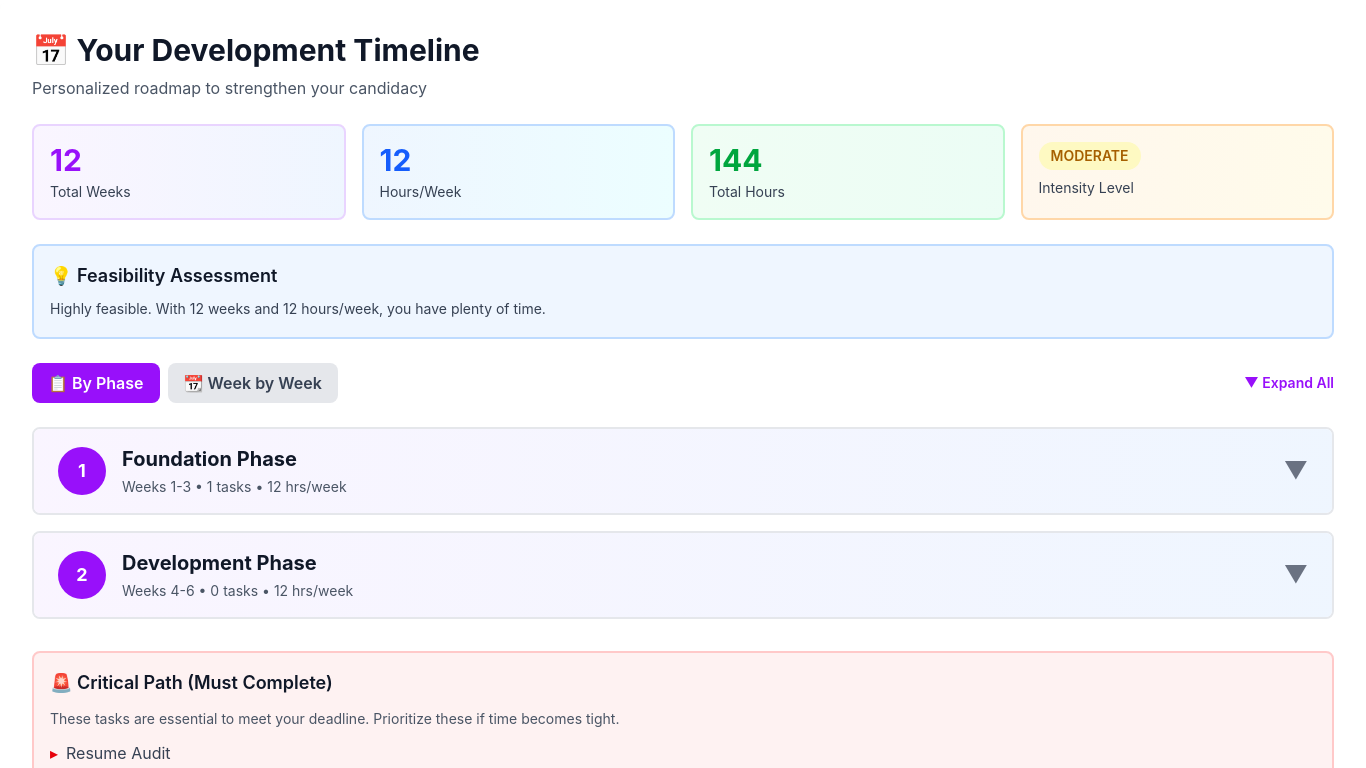
TimelineSection › Weekly Breakdown Display › should display key deliverable
Click the button "📆 Week by Week" at {"x": 253, "y": 383}, box [168, 363, 338, 403]
(page scrolled)
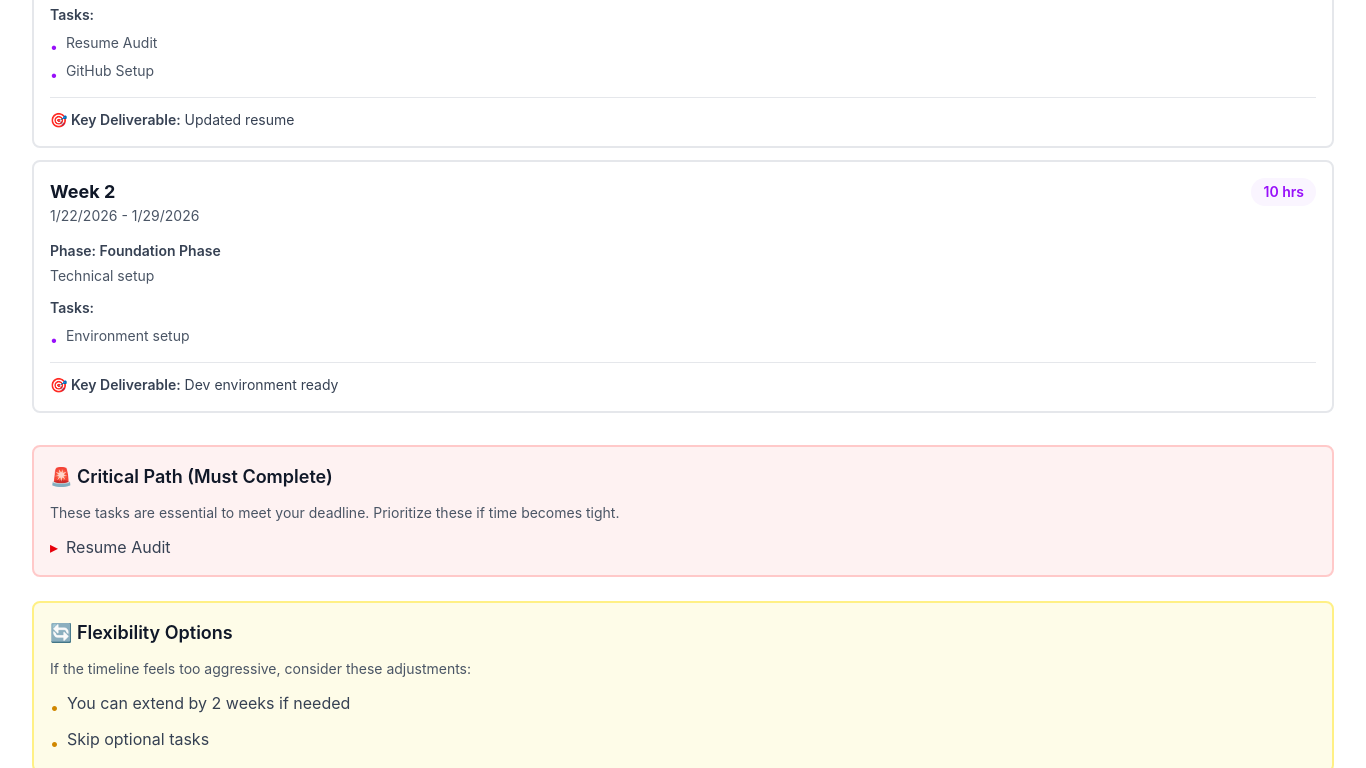
expect the text "🎯 Key Deliverable: Updated resume" is shown: met, box [50, 111, 294, 128]
expect the text "🎯 Key Deliverable: Dev environment ready" is shown: met, box [50, 376, 338, 393]
